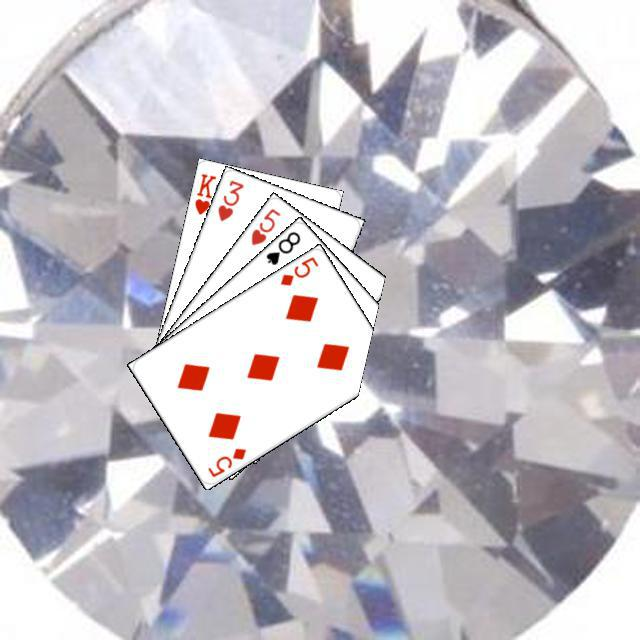3h: (213, 175, 245, 223)
5d: (275, 252, 320, 288), (203, 443, 248, 479)
5h: (246, 203, 282, 247)
8s: (261, 226, 302, 267)
Kh: (190, 168, 222, 223)
